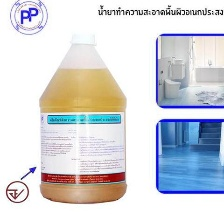cleaning_solution: (36, 30, 130, 205)
